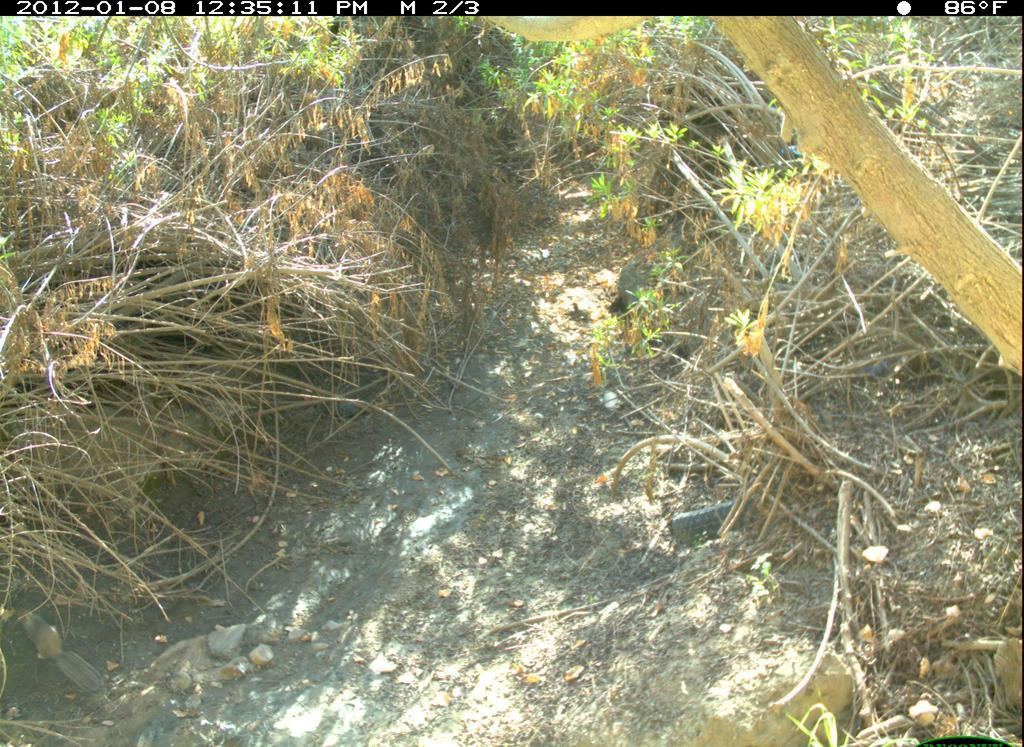squirrel: (11, 601, 113, 703)
